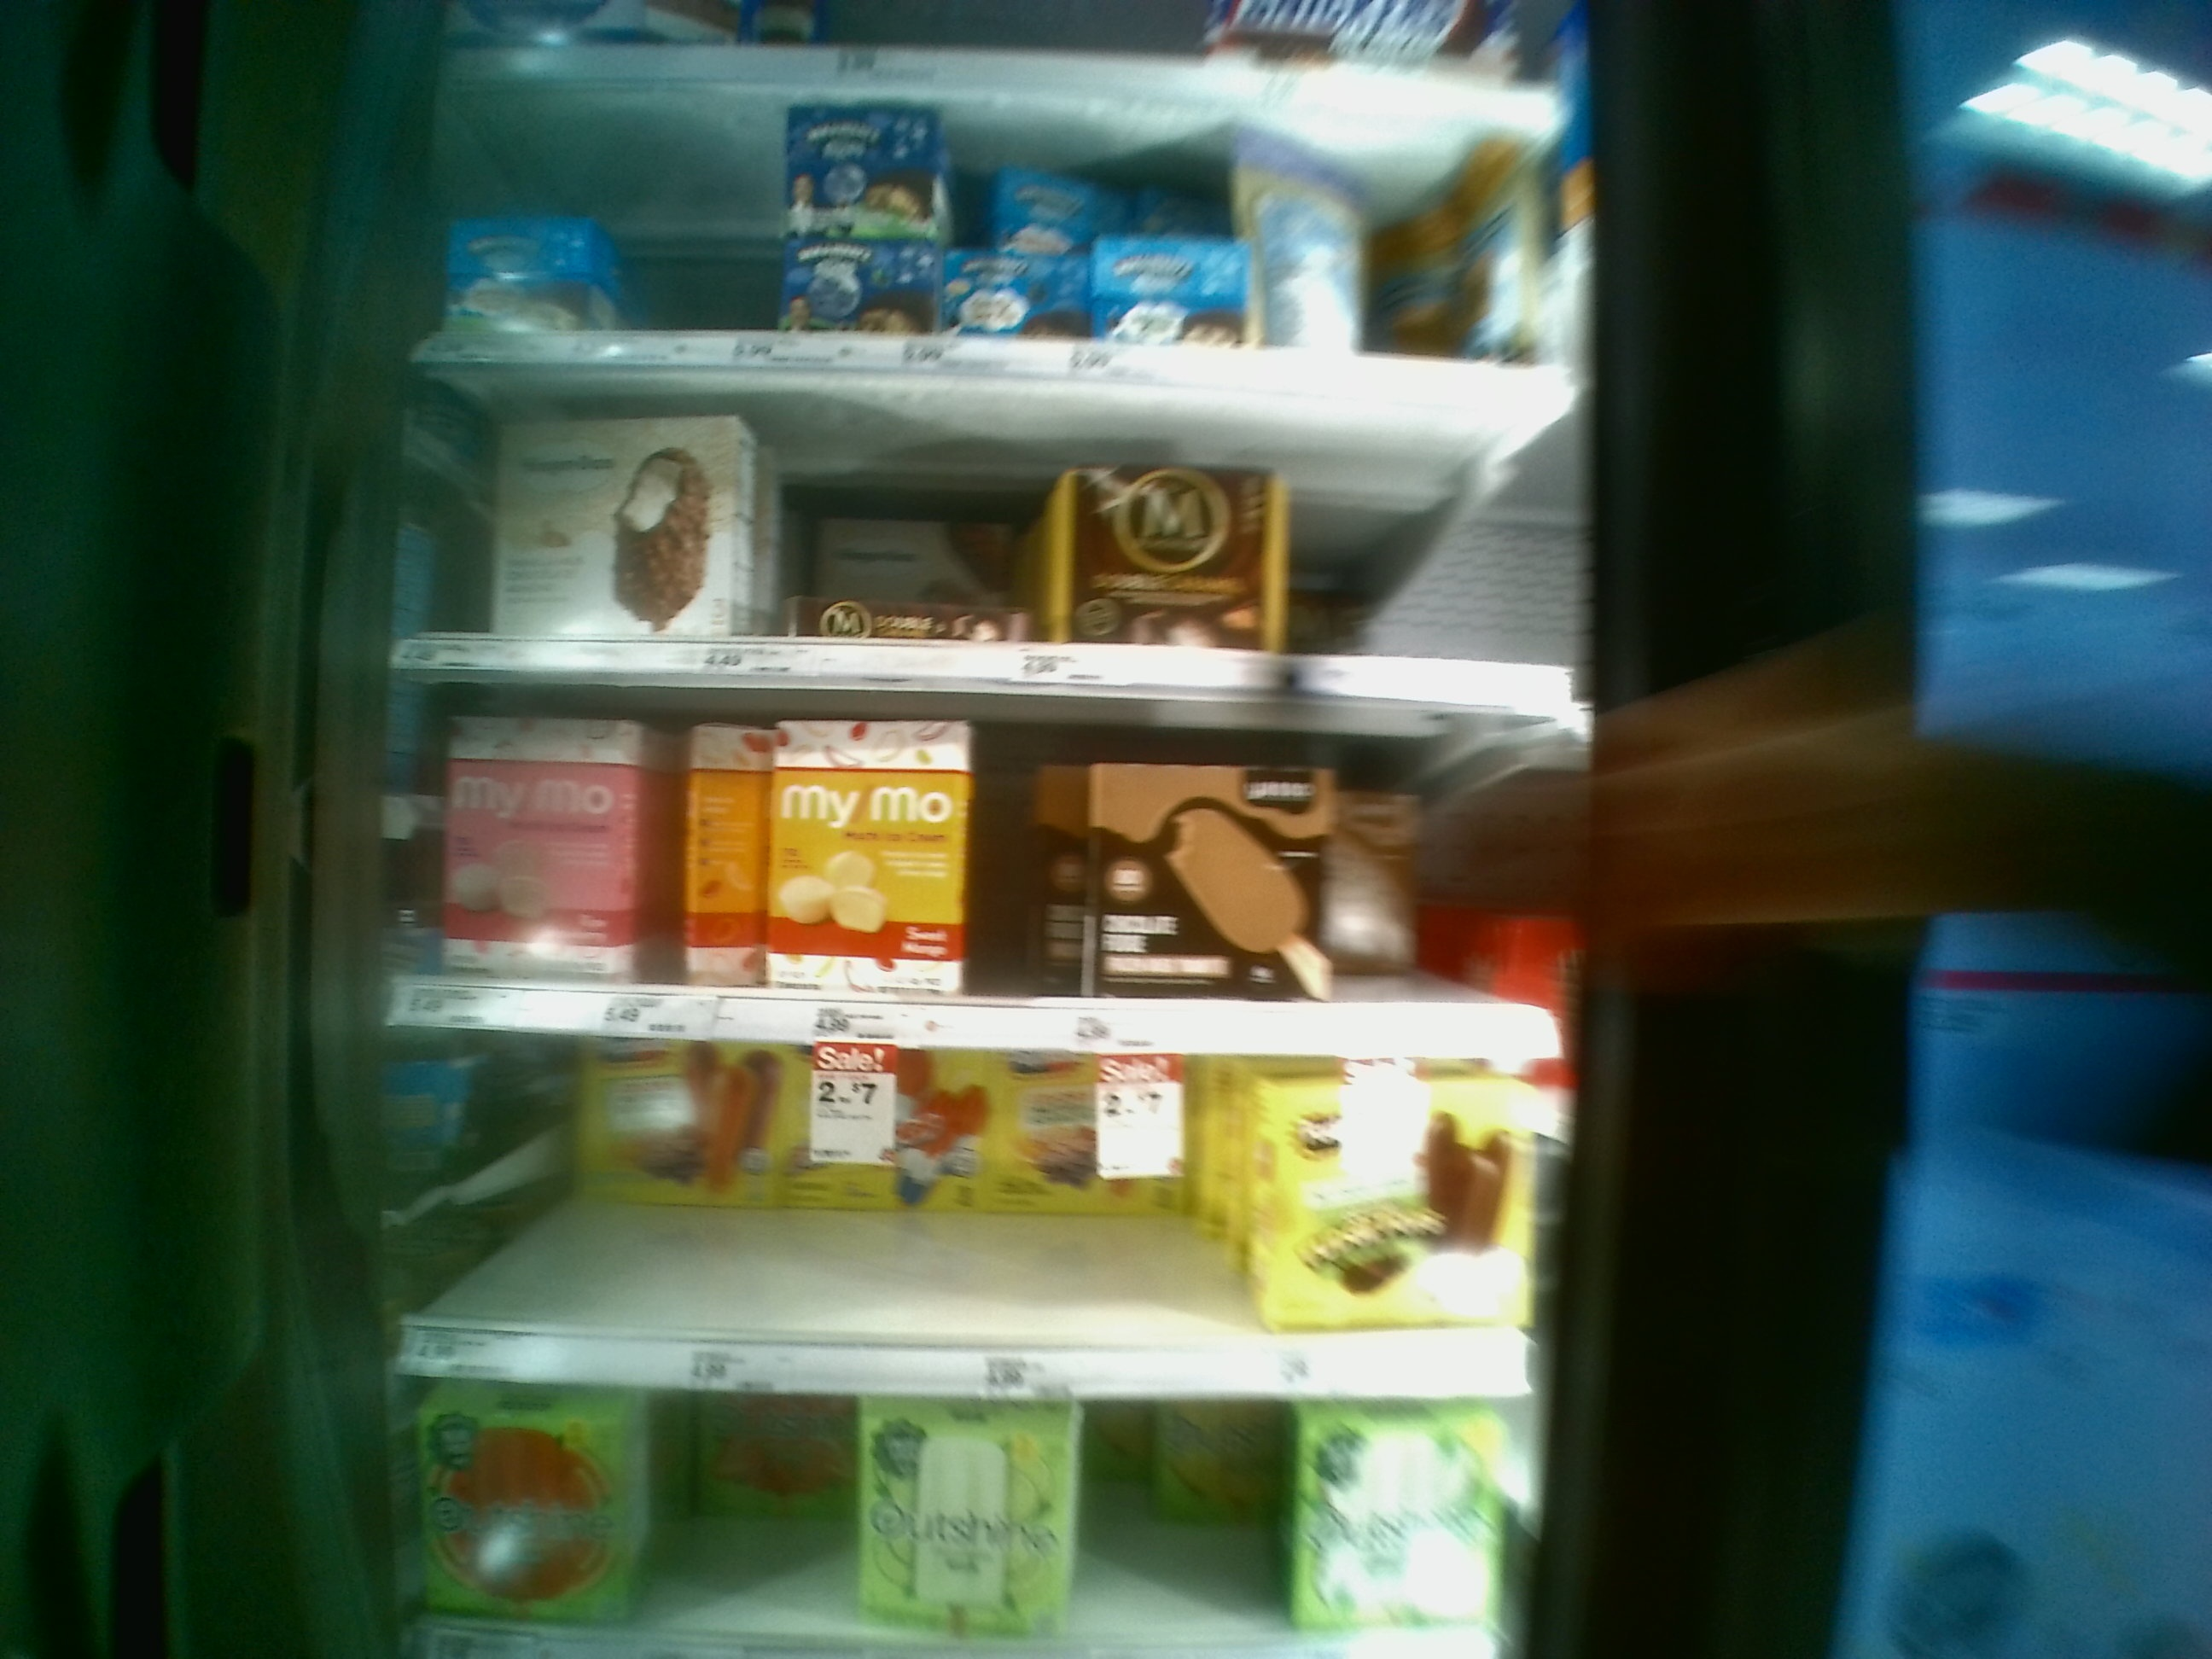ice-cream-shelf: (376, 1030, 1548, 1384), (387, 368, 1595, 681)
